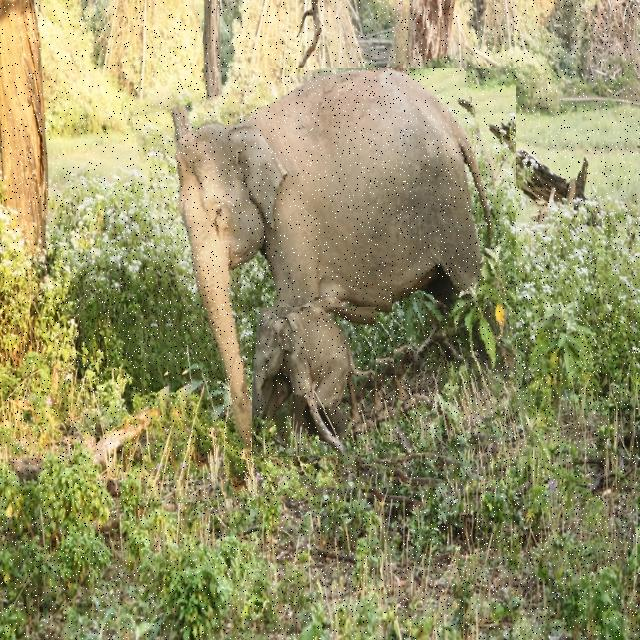elephant: (150, 68, 516, 503), (252, 307, 376, 458)
